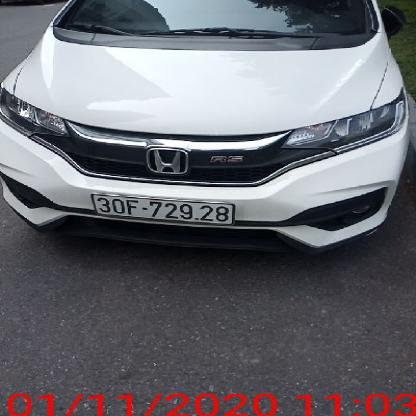biensoxe: (91, 192, 238, 228)
